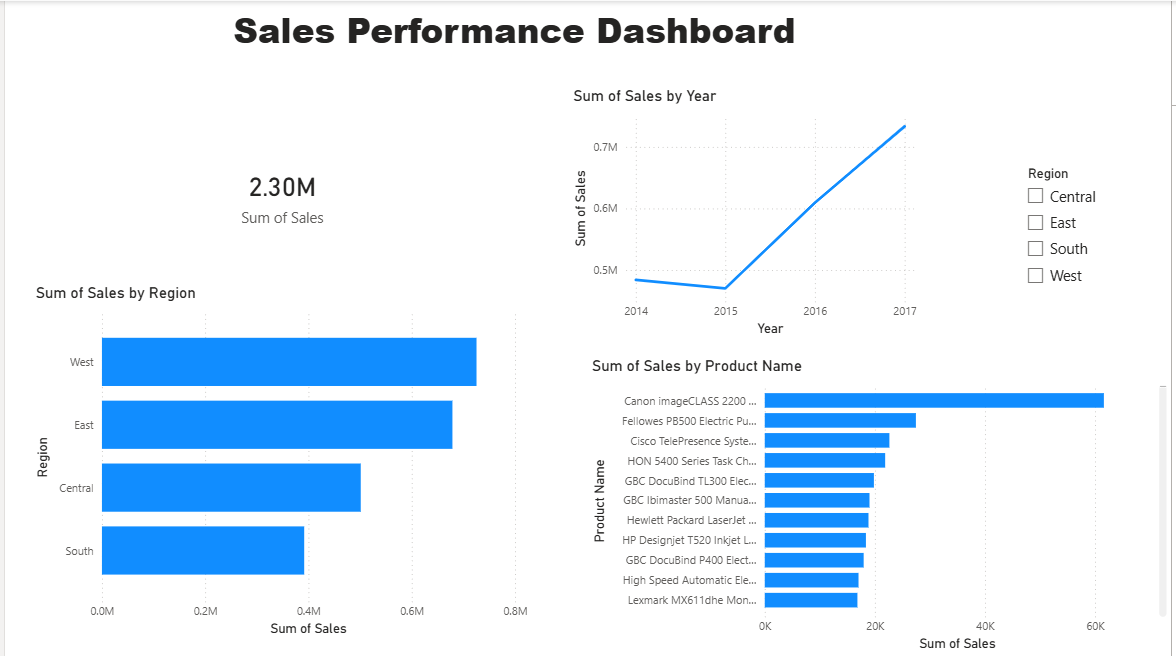

This screenshot's page, from the dashboard's own definition file:
{"tool":"powerbi","page":{"name":"Page 1","canvas":[1280,720],"ordinal":0},"visuals":[{"type":"card","fields":{"Values":["Sum(Sample - Superstore.Sales)"]},"box":[120.8,171.5,367.8,83.7],"z":0},{"type":"clusteredBarChart","fields":{"Category":["Sample - Superstore.Region"],"Y":["Sum(Sample - Superstore.Sales)"]},"box":[28.8,310.1,550.3,392.5],"z":1000},{"type":"lineChart","fields":{"Category":["Sample - Superstore.Order Date.Variation.Date Hierarchy.Year","Sample - Superstore.Order Date.Variation.Date Hierarchy.Quarter","Sample - Superstore.Order Date.Variation.Date Hierarchy.Month","Sample - Superstore.Order Date.Variation.Date Hierarchy.Day"],"Y":["Sum(Sample - Superstore.Sales)"]},"box":[618.9,93.3,387,279.9],"z":2000},{"type":"clusteredBarChart","fields":{"Category":["Sample - Superstore.Product Name"],"Y":["Sum(Sample - Superstore.Sales)"]},"box":[639.5,389.7,640.8,329.3],"z":3000},{"type":"slicer","fields":{"Values":["Sample - Superstore.Region"]},"box":[1110.1,175.6,156.4,157.8],"z":3001},{"type":"textbox","box":[96.1,0,1111.5,75.5],"z":3002}]}

Visuals, with their boxes in screenshot pixels (x1, y1, x2, y2), scaled from the page's 1280x720 canvas onto the 1176x656 screenshot:
card - Sum(Sample - Superstore.Sales): [x1=111, y1=156, x2=449, y2=233]
clusteredBarChart - Sample - Superstore.Region x Sum(Sample - Superstore.Sales): [x1=26, y1=283, x2=532, y2=640]
lineChart - Sample - Superstore.Order Date.Variation.Date Hierarchy.Year x Sample - Superstore.Order Date.Variation.Date Hierarchy.Quarter: [x1=569, y1=85, x2=924, y2=340]
clusteredBarChart - Sample - Superstore.Product Name x Sum(Sample - Superstore.Sales): [x1=588, y1=355, x2=1175, y2=655]
slicer - Sample - Superstore.Region: [x1=1020, y1=160, x2=1164, y2=304]
textbox: [x1=88, y1=0, x2=1109, y2=69]
